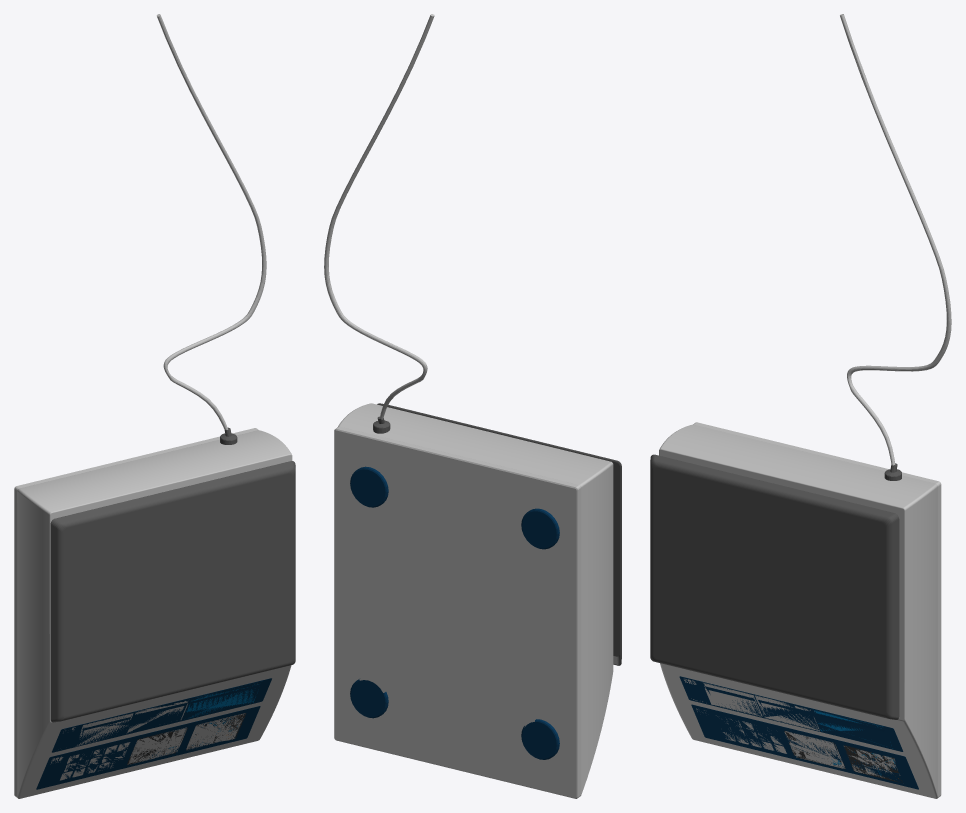
File: ScaleModel.fbx
The picture shows the model from 3 angles, left to right: view 1: azimuth 30°, elevation 25°; view 2: azimuth 150°, elevation 25°; view 3: azimuth 330°, elevation 25°; orthographic projection.
Visible parts, largest first — view 1: object0 (×5); view 2: object0 (×3); view 3: object0 (×4).
Part boxes in pixels (<box>): object0 (×5): <box>14,14,295,798</box>; object0 (×3): <box>324,14,621,798</box>; object0 (×4): <box>650,14,951,798</box>.
Bounding box in the file's own units: 111 × 310 × 35.39.
